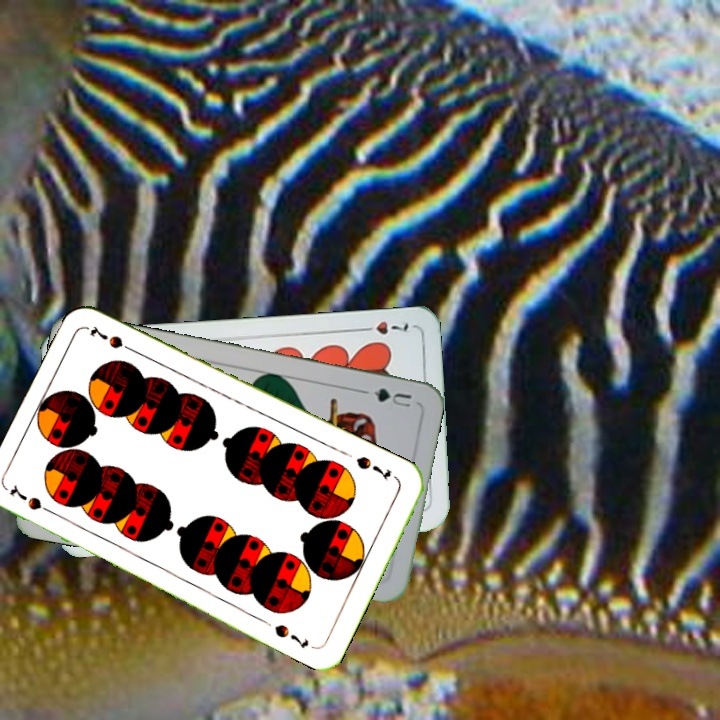GU: (359, 384, 414, 410)
H7: (355, 317, 411, 337)
S7: (5, 483, 61, 519), (352, 452, 394, 483)
